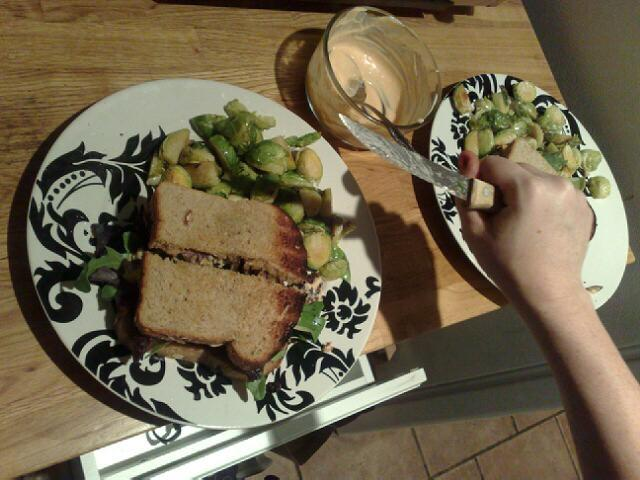brussels sprouts: (213, 111, 257, 161), (296, 218, 336, 270), (245, 140, 290, 176), (536, 104, 572, 146), (270, 188, 304, 224), (208, 134, 240, 172), (159, 128, 191, 166), (470, 109, 514, 136), (296, 148, 323, 185), (464, 128, 494, 159), (250, 173, 280, 204), (280, 169, 314, 196), (190, 114, 228, 138), (538, 142, 568, 172), (190, 162, 222, 188), (559, 142, 582, 178), (228, 161, 260, 186), (146, 154, 170, 186), (299, 188, 324, 218), (318, 258, 348, 282), (452, 83, 472, 115), (513, 80, 537, 104), (588, 176, 610, 200), (580, 148, 601, 172), (492, 86, 511, 112), (208, 180, 232, 200), (528, 121, 544, 150), (227, 180, 253, 196), (474, 96, 496, 114), (516, 102, 538, 120), (495, 128, 517, 144), (507, 104, 518, 120)
lettuce: (72, 231, 132, 292), (292, 300, 326, 344), (244, 373, 266, 401)
